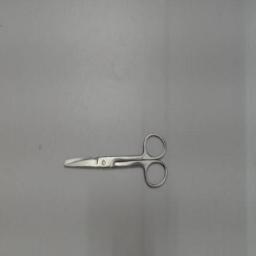Dressing Scissors: (55, 127, 173, 195)
